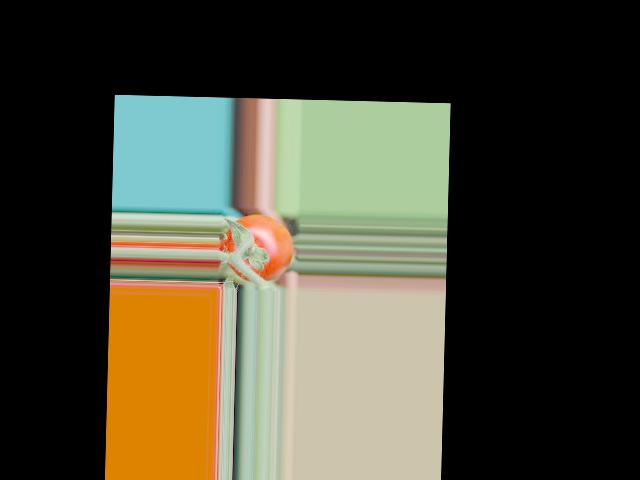tomato: (218, 213, 293, 283)
